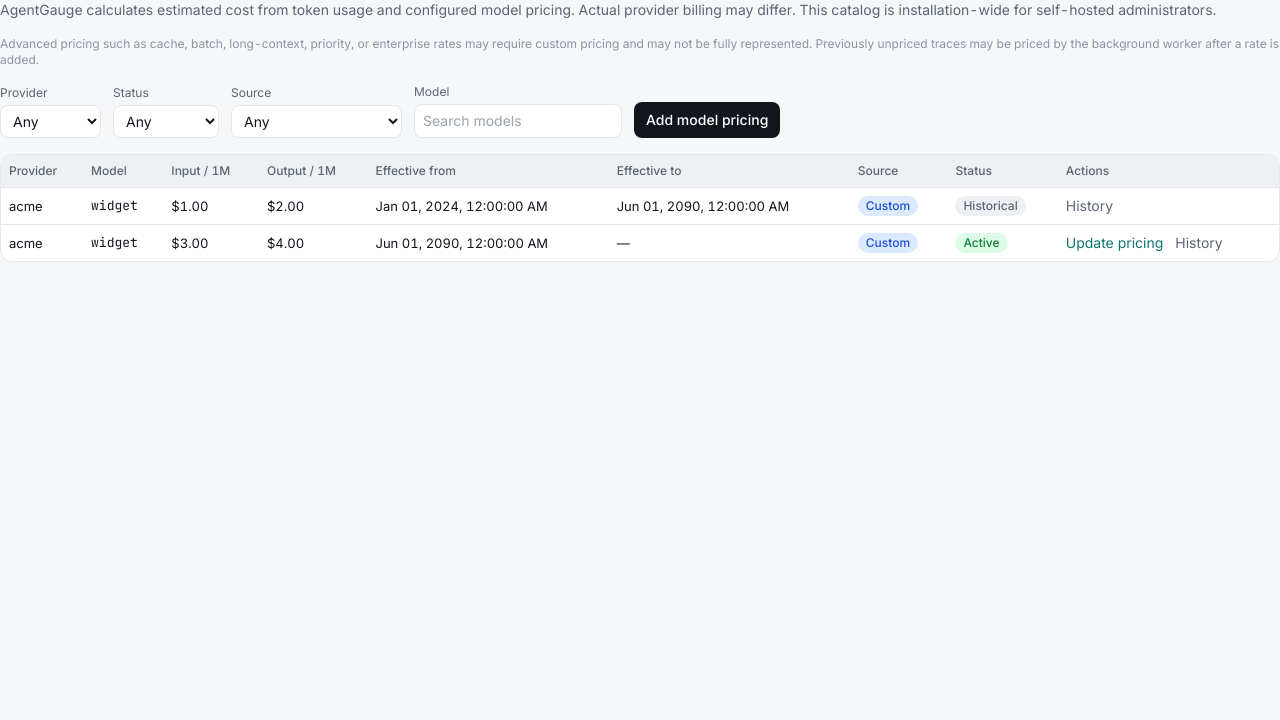
Test: ModelPricingManager › opens update pricing and history
Click the button "Update pricing" at (1114, 243), box [1066, 233, 1163, 253]
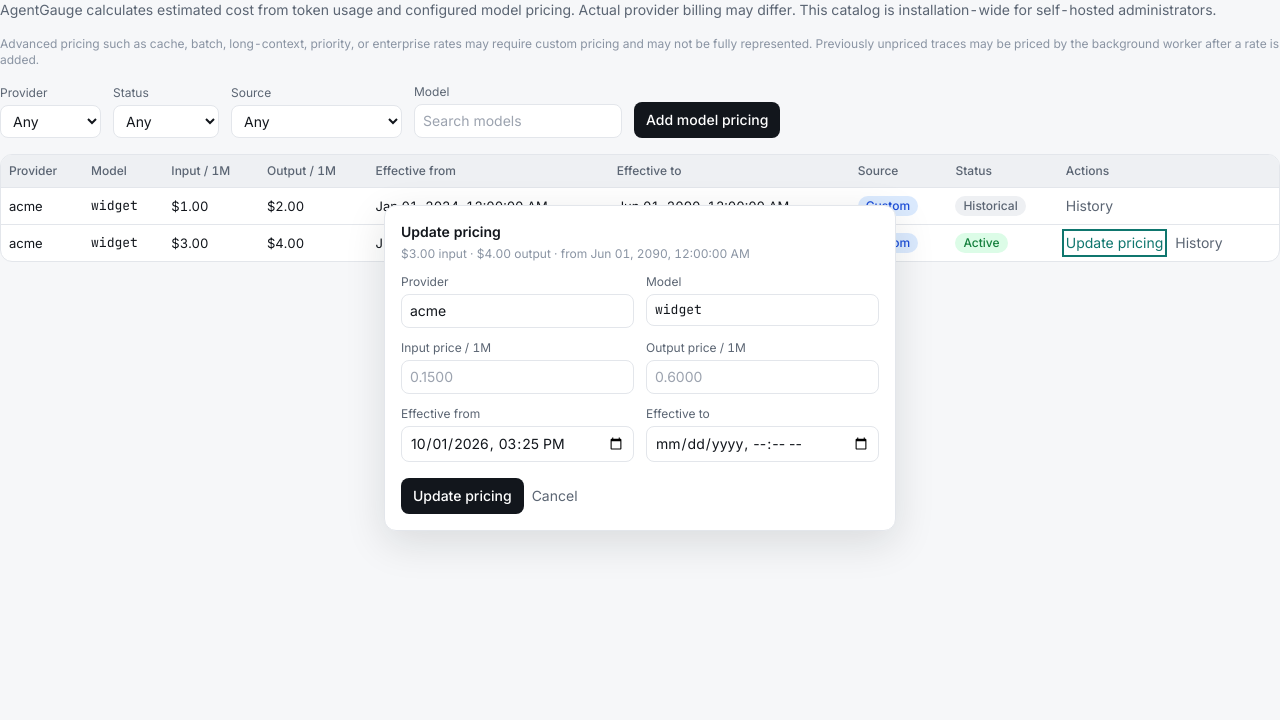
expect the dialog "Update pricing" is shown: met, box [384, 205, 896, 531]
Click the button "Cancel" at (555, 496), box [532, 478, 578, 514]
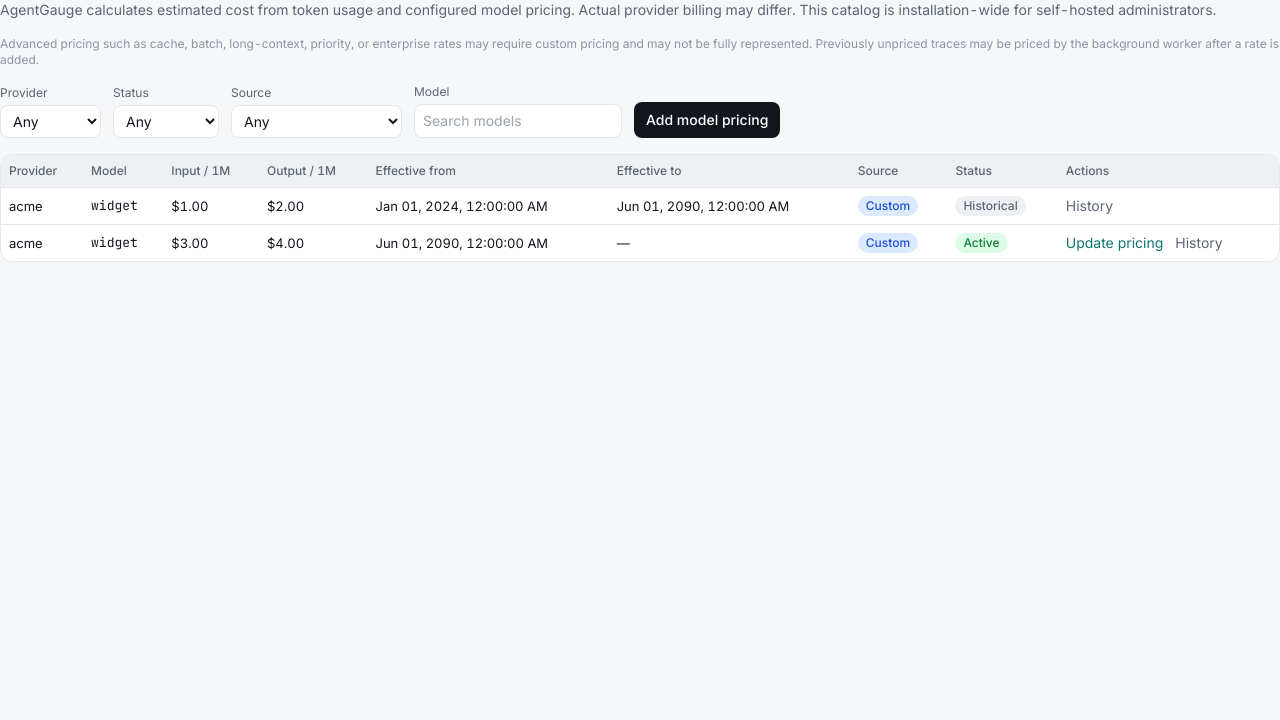
Click the button "History" in the row of "$1.00" at (1089, 206), box [1066, 196, 1113, 216]
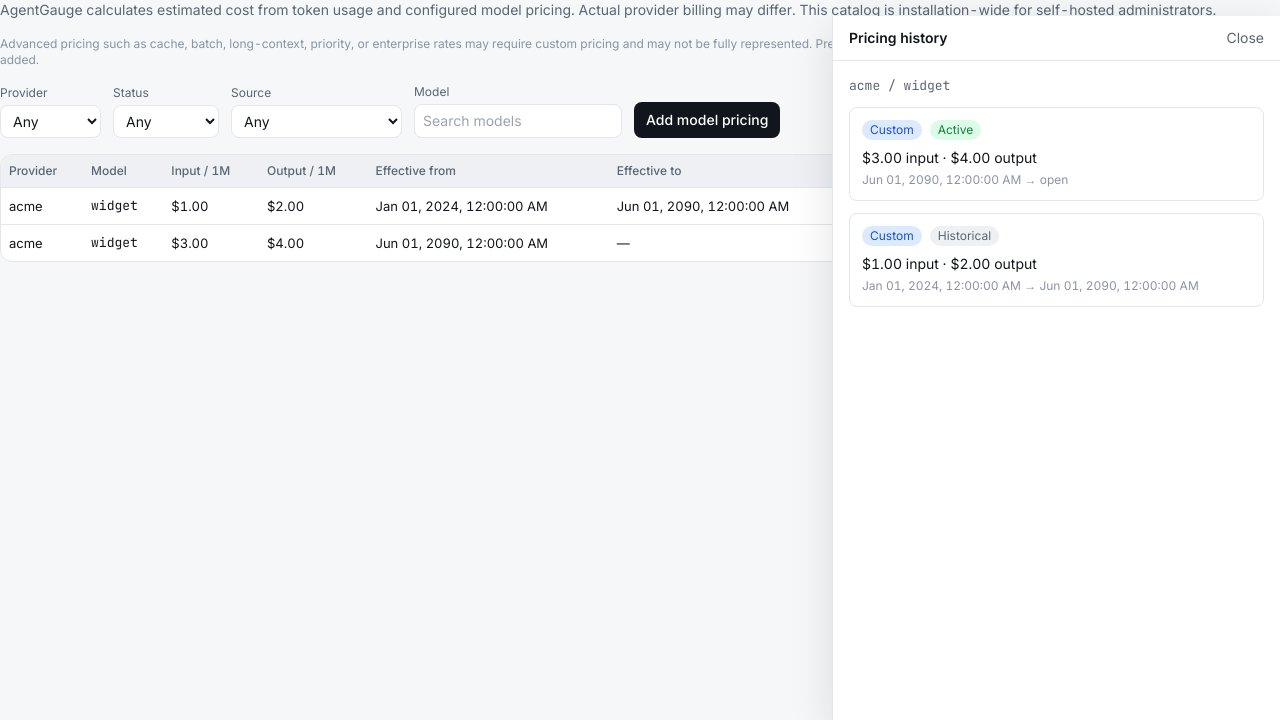
expect the dialog "Pricing history" is shown: met, box [832, 16, 1279, 719]
expect the text "acme / widget" is shown: met, box [849, 77, 950, 94]
expect the text "Historical" is shown: met, box [930, 226, 999, 246]
